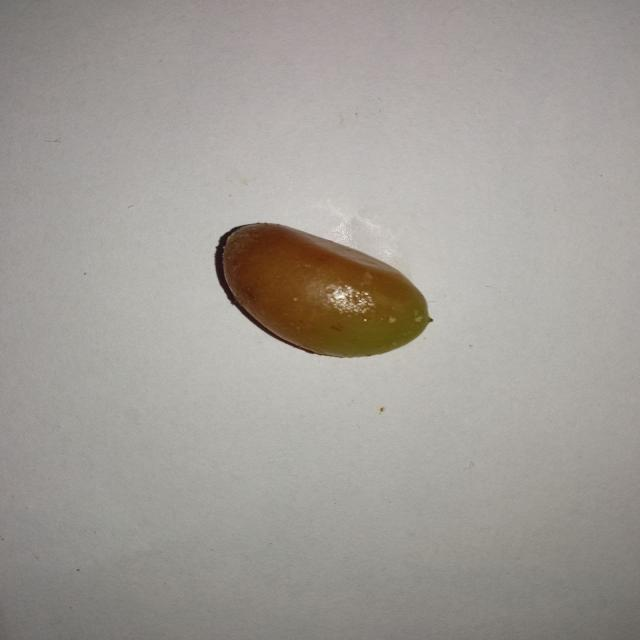rotten_grape: (220, 221, 431, 358)
